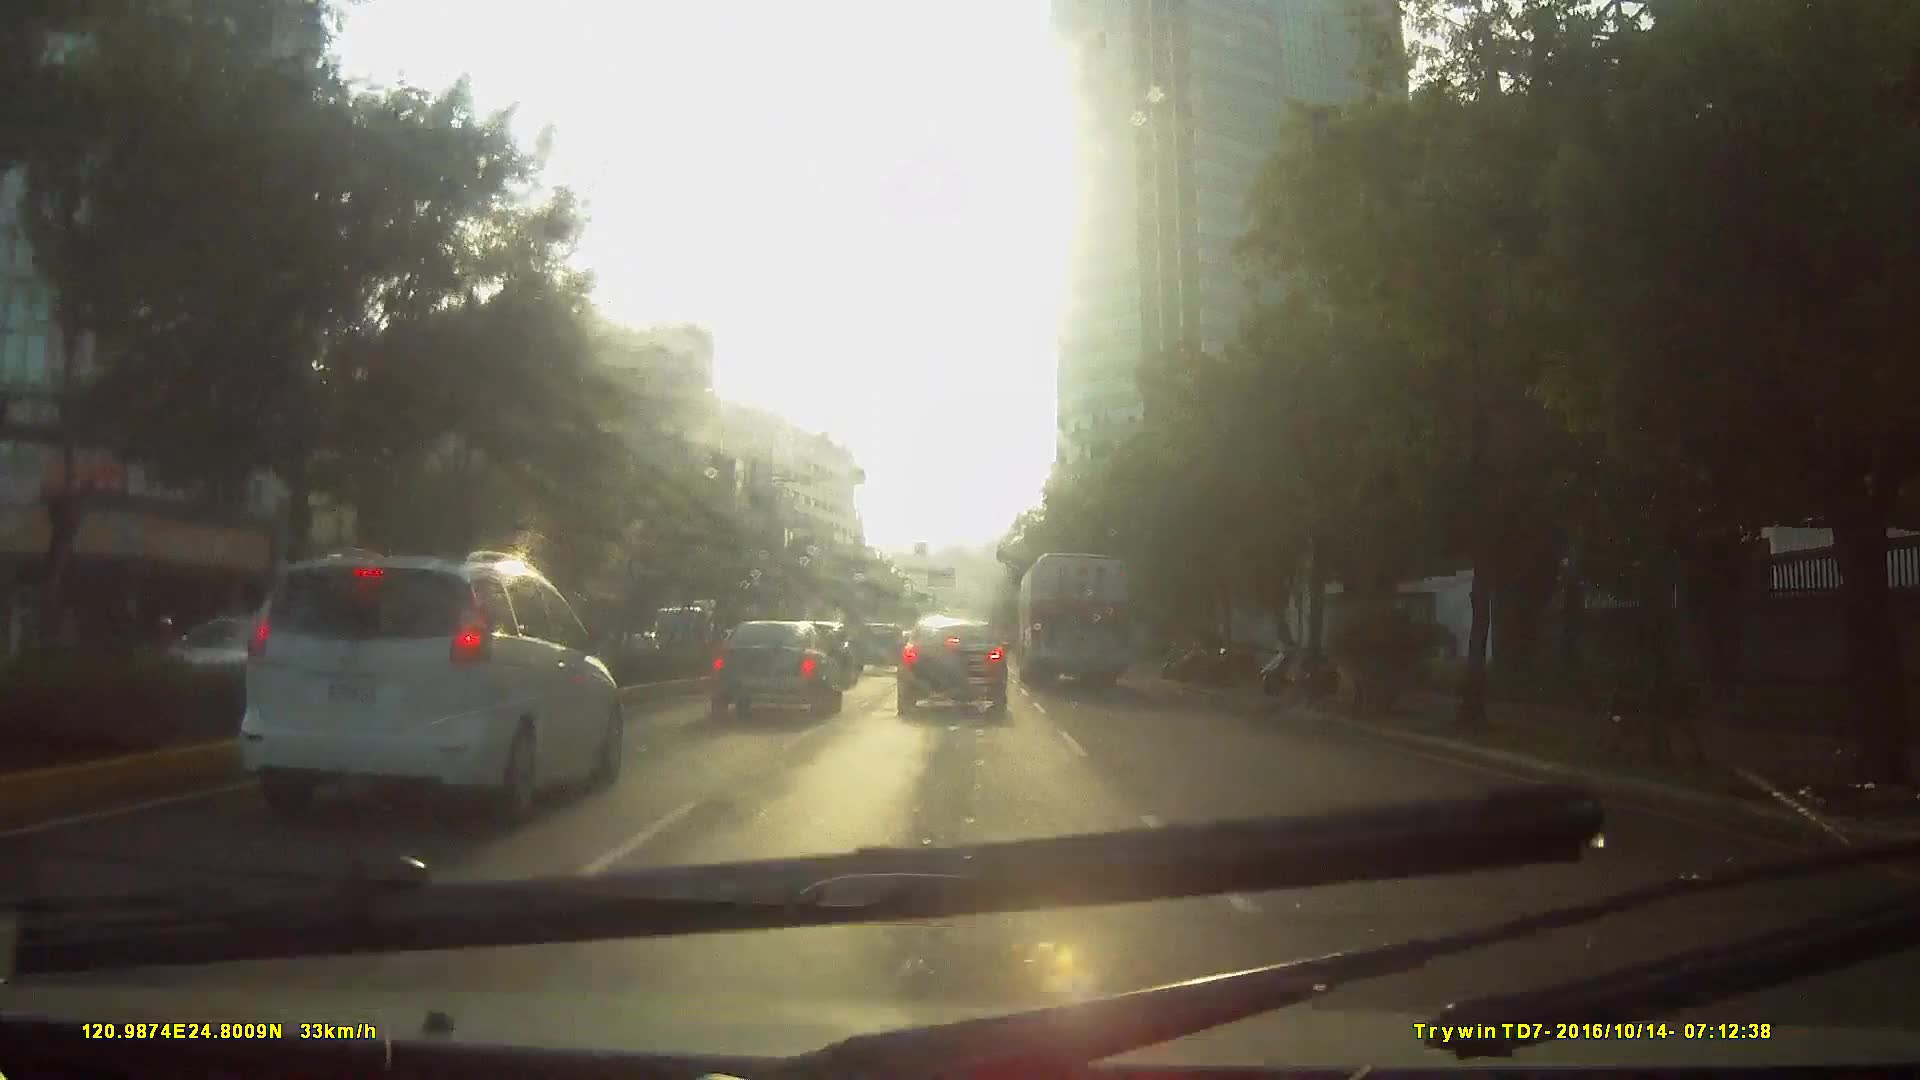vehicle: (251, 556, 684, 868), (210, 545, 633, 833), (1015, 546, 1133, 688), (704, 615, 845, 719), (895, 607, 1011, 716), (849, 615, 907, 675)
